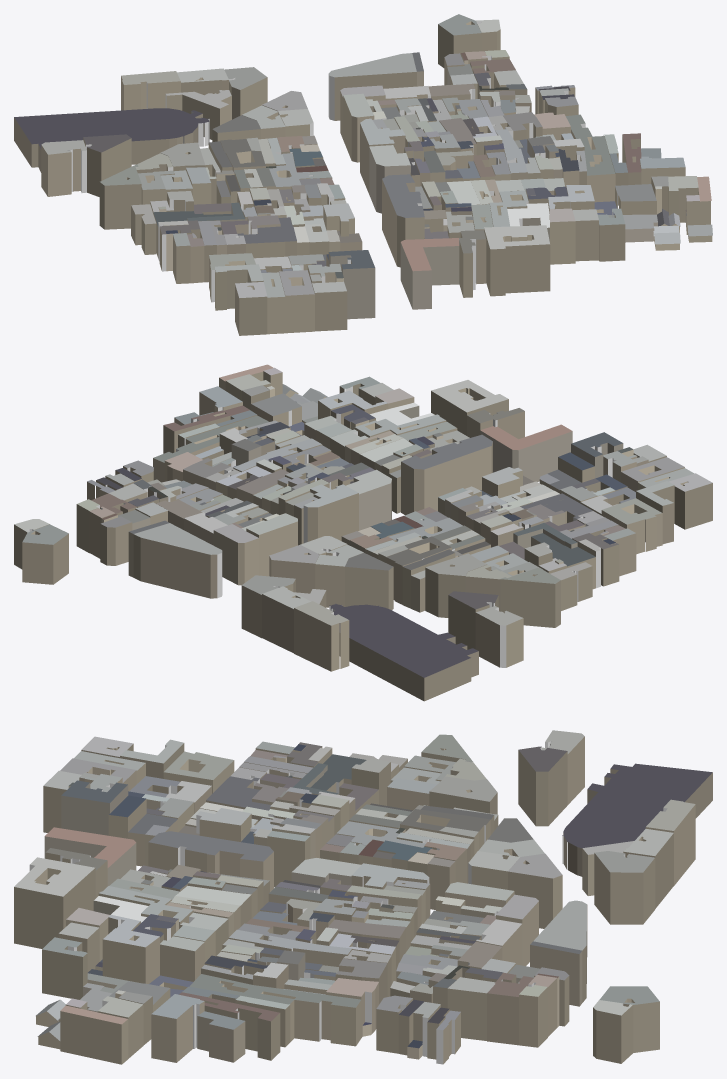
3 views of the same model, one above another, from view 1: azimuth 30°, elevation 25°; view 2: azimuth 150°, elevation 25°; view 3: azimuth 270°, elevation 25° (orthographic). The views are drawn at different scales.
Parts seen in each view (by area): view 1: tuile; view 2: tuile; view 3: tuile.
Part boxes in pixels (x1=…): tuile: x1=14, y1=14, x2=712, y2=335; tuile: x1=14, y1=364, x2=712, y2=701; tuile: x1=14, y1=730, x2=712, y2=1064.
Bounding box in the file's own units: 268 × 28.34 × 279.
